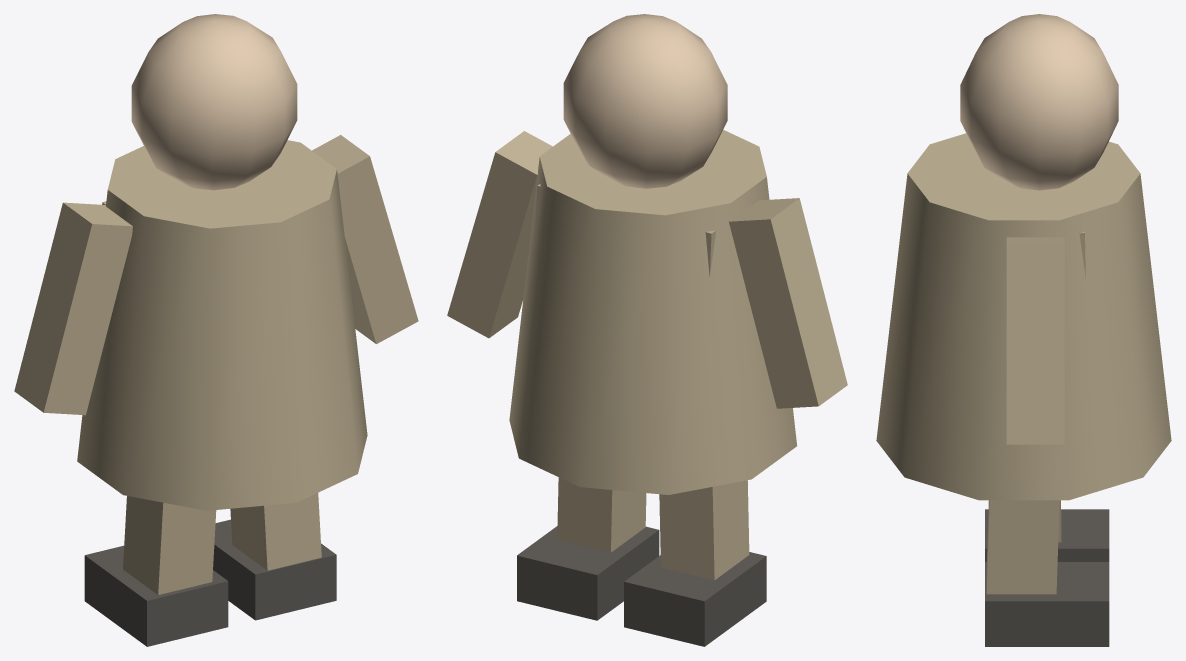
File: npc_wasteland_settler.glb
3 views of the same model, side by side, from view 1: azimuth 30°, elevation 25°; view 2: azimuth 150°, elevation 25°; view 3: azimuth 270°, elevation 25° (orthographic).
Parts seen in each view (by area): view 1: torso, head, left_arm, right_arm, left_boot, left_leg, right_boot, right_leg; view 2: torso, head, left_arm, right_arm, left_boot, right_boot, left_leg, right_leg; view 3: torso, head, right_arm, right_boot, right_leg, left_boot.
Part boxes in pixels (x1,y1,x2,y2): torso: [77, 140, 367, 510]; head: [131, 14, 297, 190]; left_arm: [14, 202, 132, 415]; right_arm: [312, 135, 418, 343]; left_boot: [84, 545, 228, 646]; left_leg: [123, 496, 216, 594]; right_boot: [213, 519, 336, 620]; right_leg: [230, 493, 321, 570]; torso: [509, 129, 796, 494]; head: [563, 14, 727, 188]; left_arm: [729, 198, 847, 408]; right_arm: [447, 131, 552, 338]; left_boot: [624, 552, 766, 646]; right_boot: [517, 526, 659, 620]; left_leg: [659, 480, 749, 580]; right_leg: [557, 477, 646, 552]; torso: [876, 133, 1171, 500]; head: [960, 14, 1118, 190]; right_arm: [1006, 237, 1064, 444]; right_boot: [985, 562, 1109, 646]; right_leg: [986, 500, 1059, 594]; left_boot: [985, 509, 1109, 561].
Bounding box in the file's own units: 1.11 × 1.65 × 0.76.
